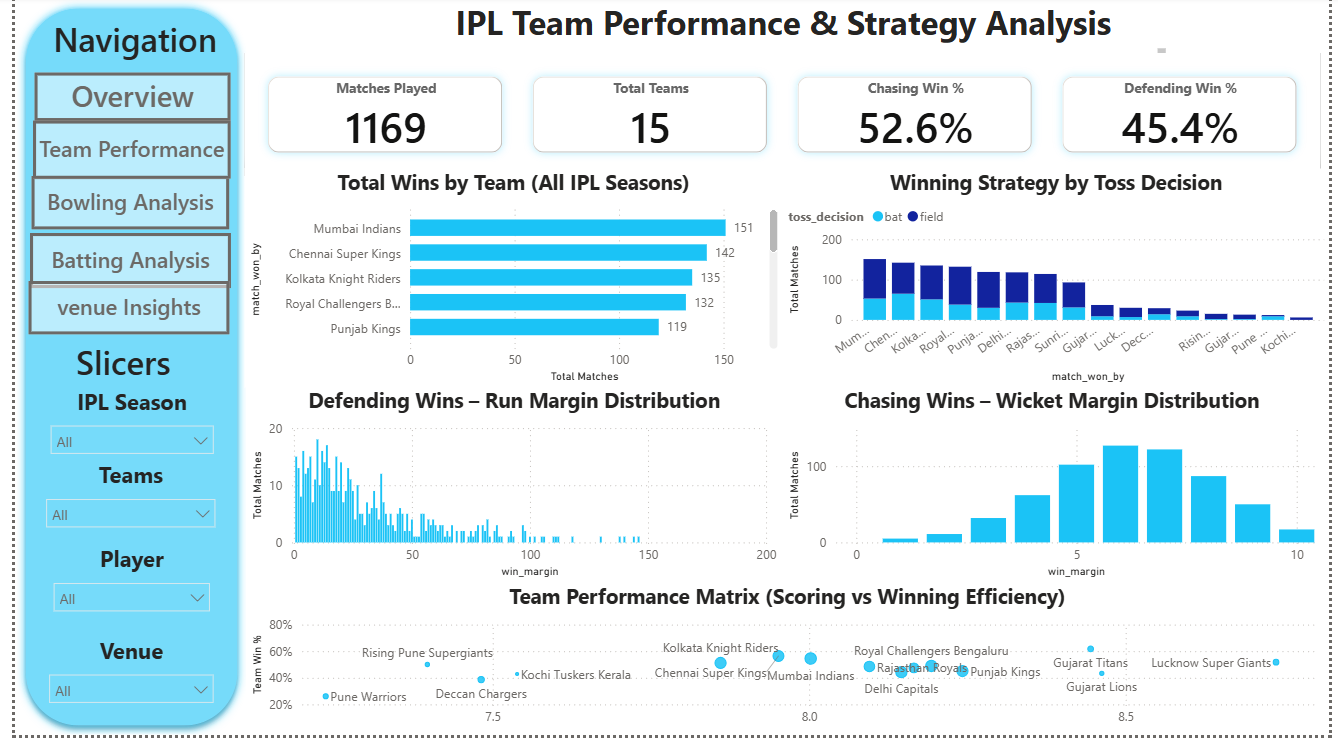

Layout of this report page (visuals, bound fields, positions):
{"tool":"powerbi","page":{"name":"Team Performance","canvas":[1280,720],"ordinal":1},"visuals":[{"type":"group","id":"g1","title":"Group 1","box":[1.9,3.6,223.4,716.4],"z":0},{"type":"shape","box":[1.9,3.6,224.2,716.9],"z":500,"group":"g1"},{"type":"textbox","title":"IPL Team Performance & Strategy Analysis","box":[371.1,3.2,754.7,63.2],"z":1000},{"type":"cardVisual","fields":{"Data":["Table.Total Matches","Calculated_Measures.Total Teams","Calculated_Measures.Chasing Win %","Calculated_Measures.Defending Win %"]},"box":[224.2,55.3,1048.4,120],"z":2000},{"type":"slicer","title":"Venue","fields":{"Values":["matches.venue"]},"box":[24,622.6,180,72.6],"z":2937,"group":"g1"},{"type":"clusteredBarChart","title":"Total Wins by Team (All IPL Seasons)","fields":{"Y":["Calculated_Measures.Total Matches"],"Category":["matches.match_won_by"]},"box":[224.2,167.4,524.2,213.2],"z":3000},{"type":"columnChart","title":"Chasing Wins – Wicket Margin Distribution","fields":{"Category":["matches.win_margin"],"Y":["Calculated_Measures.Total Matches"]},"box":[748.4,380.5,524.2,191.1],"z":4000},{"type":"columnChart","title":"Defending Wins – Run Margin Distribution","fields":{"Category":["matches.win_margin"],"Y":["Calculated_Measures.Total Matches"]},"box":[225.8,380.5,522.6,191.1],"z":5000},{"type":"actionButton","box":[19.3,74.7,191.1,47.4],"z":5375,"group":"g1"},{"type":"slicer","title":"IPL Season","fields":{"Values":["matches.Season Label"]},"box":[25.6,381,178.4,71.1],"z":5679,"group":"g1"},{"type":"actionButton","box":[16.1,175.7,192.6,52.1],"z":5984,"group":"g1"},{"type":"columnChart","title":"Winning Strategy by Toss Decision","fields":{"Category":["matches.match_won_by"],"Y":["Calculated_Measures.Total Matches"],"Series":["matches.toss_decision"]},"box":[748.4,167.4,532.1,213.2],"z":6000},{"type":"slicer","title":"Player","fields":{"Values":["deliveries.batter"]},"box":[28.7,534.1,172.1,75.8],"z":6288,"group":"g1"},{"type":"actionButton","box":[14.5,231,195.8,53.7],"z":6593,"group":"g1"},{"type":"scatterChart","title":"Team Performance Matrix (Scoring vs Winning Efficiency)","fields":{"X":["Calculated_Measures.Run Rate"],"Category":["matches.match_won_by"],"Size":["Calculated_Measures.Team Matches"],"Y":["Calculated_Measures.Team win%"]},"box":[225.8,571.6,1054.8,148.4],"z":7000},{"type":"slicer","title":"Teams","fields":{"Values":["matches.team1"]},"box":[20.8,452,184.7,69.5],"z":7202,"group":"g1"},{"type":"actionButton","box":[13,278.3,195.8,52.1],"z":7812,"group":"g1"},{"type":"textbox","box":[7.7,329.1,196.4,63.6],"z":10250,"group":"g1"},{"type":"textbox","box":[31.9,14.7,178.4,60],"z":10750,"group":"g1"},{"type":"actionButton","box":[17.7,122,192.6,56.8],"z":11250,"group":"g1"}]}

Visuals, with their boxes in screenshot pixels (x1, y1, x2, y2), scaled from the page's 1280x720 canvas onto the 1338x744 screenshot:
"Group 1" group: x1=2 y1=4 x2=236 y2=743
shape: x1=2 y1=4 x2=236 y2=743
"IPL Team Performance & Strategy Analysis" textbox: x1=388 y1=3 x2=1177 y2=69
cardVisual - Table.Total Matches x Calculated_Measures.Total Teams: x1=234 y1=57 x2=1330 y2=181
"Venue" slicer: x1=25 y1=643 x2=213 y2=718
"Total Wins by Team (All IPL Seasons)" clusteredBarChart: x1=234 y1=173 x2=782 y2=393
"Chasing Wins – Wicket Margin Distribution" columnChart: x1=782 y1=393 x2=1330 y2=591
"Defending Wins – Run Margin Distribution" columnChart: x1=236 y1=393 x2=782 y2=591
actionButton: x1=20 y1=77 x2=220 y2=126
"IPL Season" slicer: x1=27 y1=394 x2=213 y2=467
actionButton: x1=17 y1=182 x2=218 y2=235
"Winning Strategy by Toss Decision" columnChart: x1=782 y1=173 x2=1337 y2=393
"Player" slicer: x1=30 y1=552 x2=210 y2=630
actionButton: x1=15 y1=239 x2=220 y2=294
"Team Performance Matrix (Scoring vs Winning Efficiency)" scatterChart: x1=236 y1=591 x2=1337 y2=743
"Teams" slicer: x1=22 y1=467 x2=215 y2=539
actionButton: x1=14 y1=288 x2=218 y2=341
textbox: x1=8 y1=340 x2=213 y2=406
textbox: x1=33 y1=15 x2=220 y2=77
actionButton: x1=19 y1=126 x2=220 y2=185
